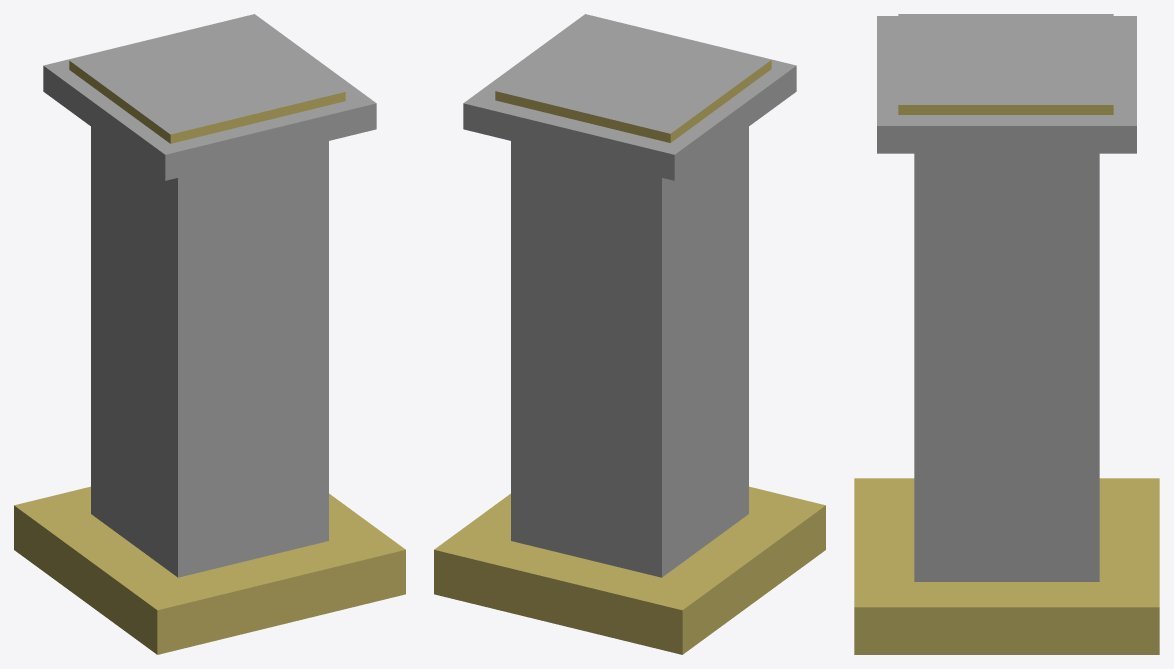
Rendered from Base_Libro.fbx.
3 renders of one model, left to right at view 1: azimuth 30°, elevation 25°; view 2: azimuth 150°, elevation 25°; view 3: azimuth 270°, elevation 25°, orthographic. The views are drawn at different scales.
Parts seen in each view (by area): view 1: polySurface6; view 2: polySurface6; view 3: polySurface6.
Part boxes in pixels (<box>): polySurface6: <box>14,14,405,654</box>; polySurface6: <box>434,14,825,654</box>; polySurface6: <box>854,14,1159,654</box>.
Bounding box in the file's own units: 1.3 × 2.48 × 1.3.
